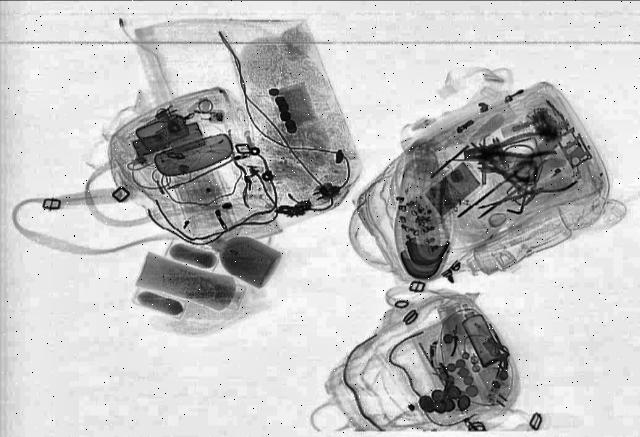Pliers: (494, 154, 584, 214), (457, 128, 557, 169)
